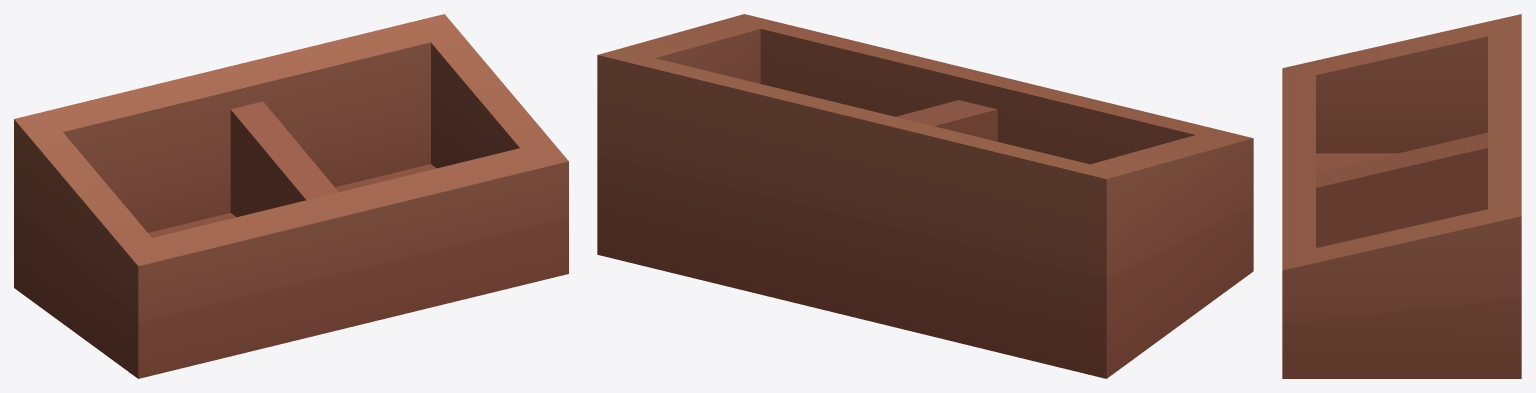
The model's file is crate_long_empty.glb.
3 renders of one model, left to right at view 1: azimuth 30°, elevation 25°; view 2: azimuth 150°, elevation 25°; view 3: azimuth 270°, elevation 25°, orthographic. The views are drawn at different scales.
Parts seen in each view (by area): view 1: crate_long_empty; view 2: crate_long_empty; view 3: crate_long_empty.
Part boxes in pixels (box(x1,y1,x2,y2)): crate_long_empty: box(14, 14, 568, 378); crate_long_empty: box(597, 14, 1253, 378); crate_long_empty: box(1282, 14, 1521, 378).
Size of the model in its own units: 0.4 by 0.15 by 0.2.
Materials: 1 (1 with a texture image).
